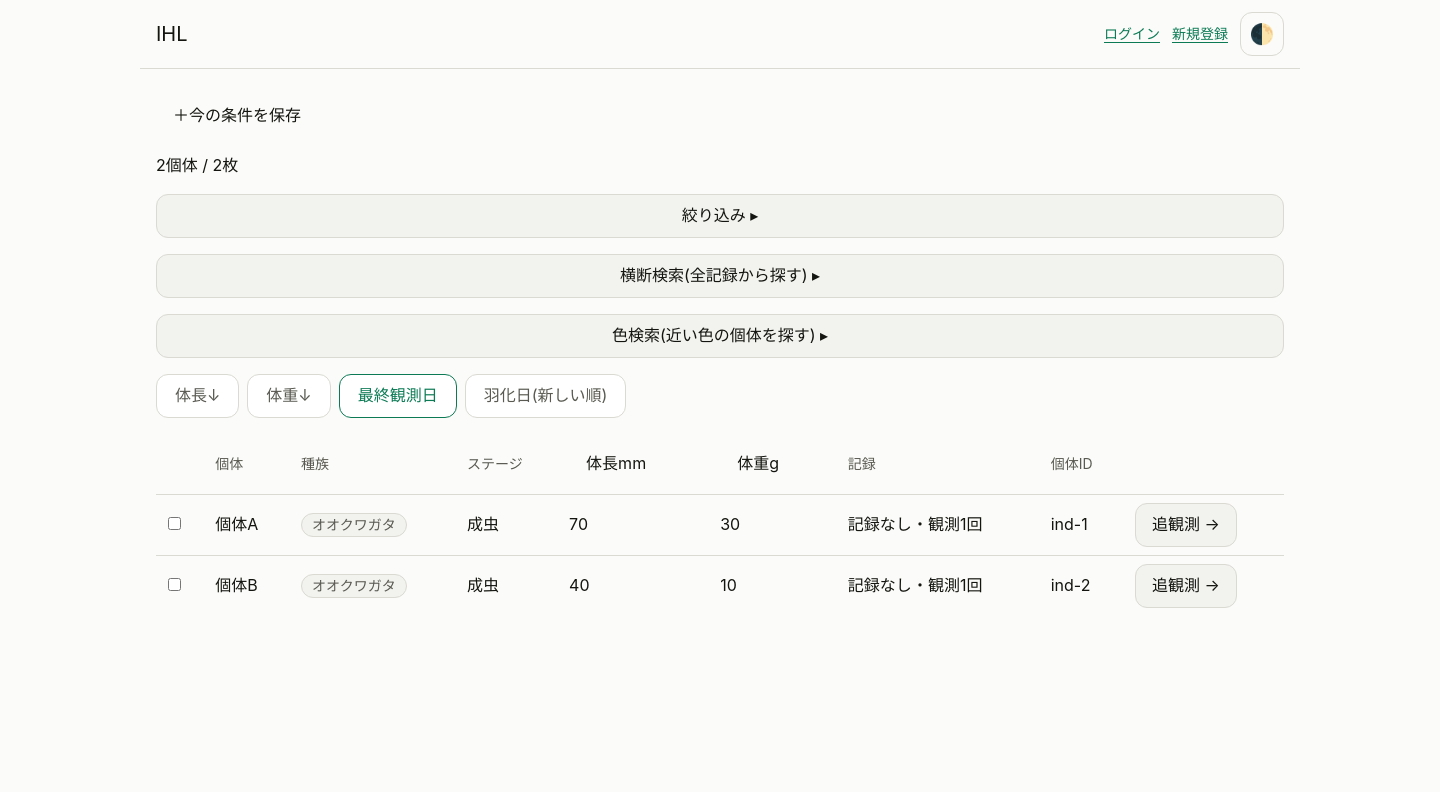
Test: T2: 横断検索UI導線(GET /api/v1/search) › 0件応答は「該当する記録がありません」を表示し、打ち切り表示は出さない
Check: the text "2個体 / 2枚" is shown, box [156,155,238,175]
Click the button "横断検索(全記録から探す) ▸" at (720, 276), box [156,254,1284,298]
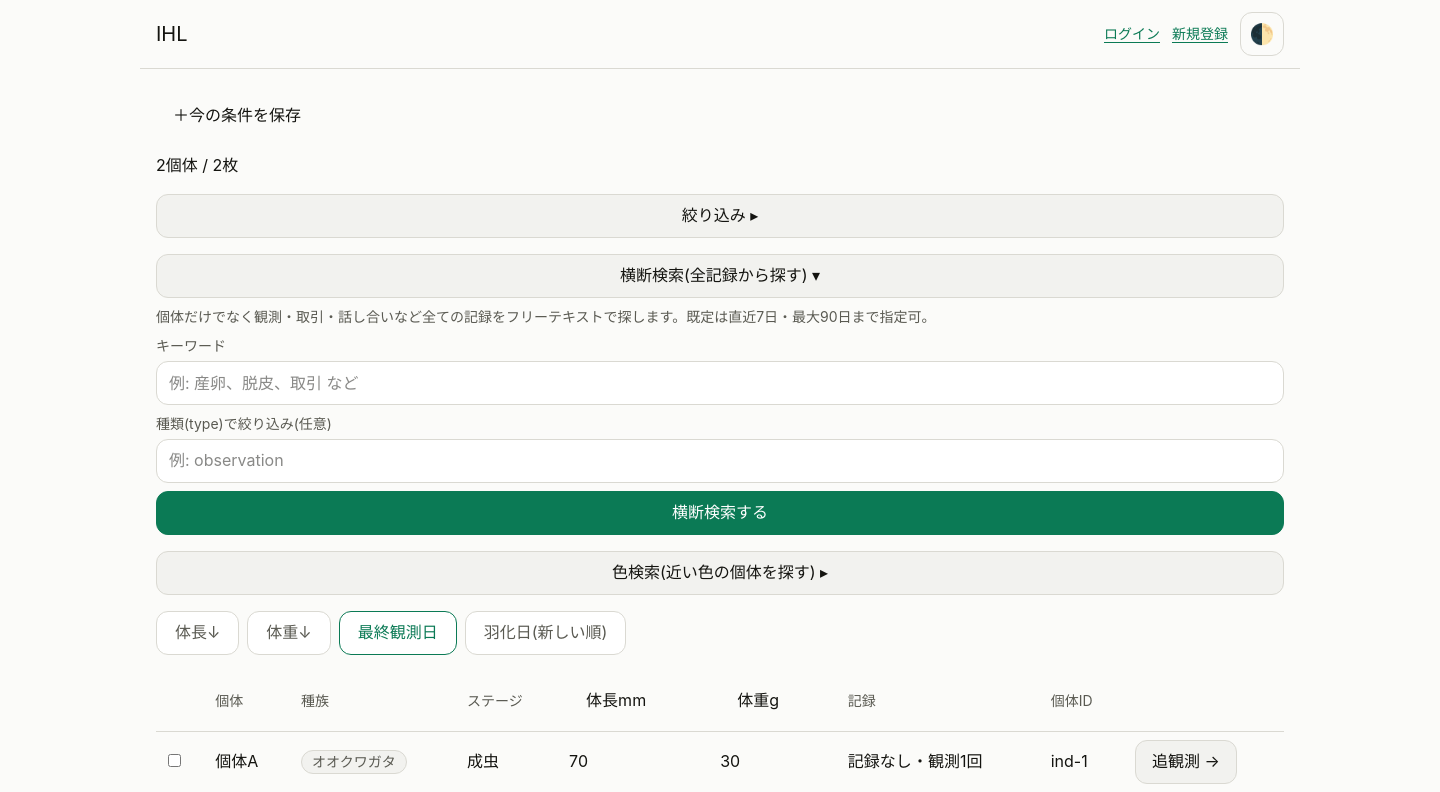
Click the button "横断検索する" at (720, 513), box [156,491,1284,535]
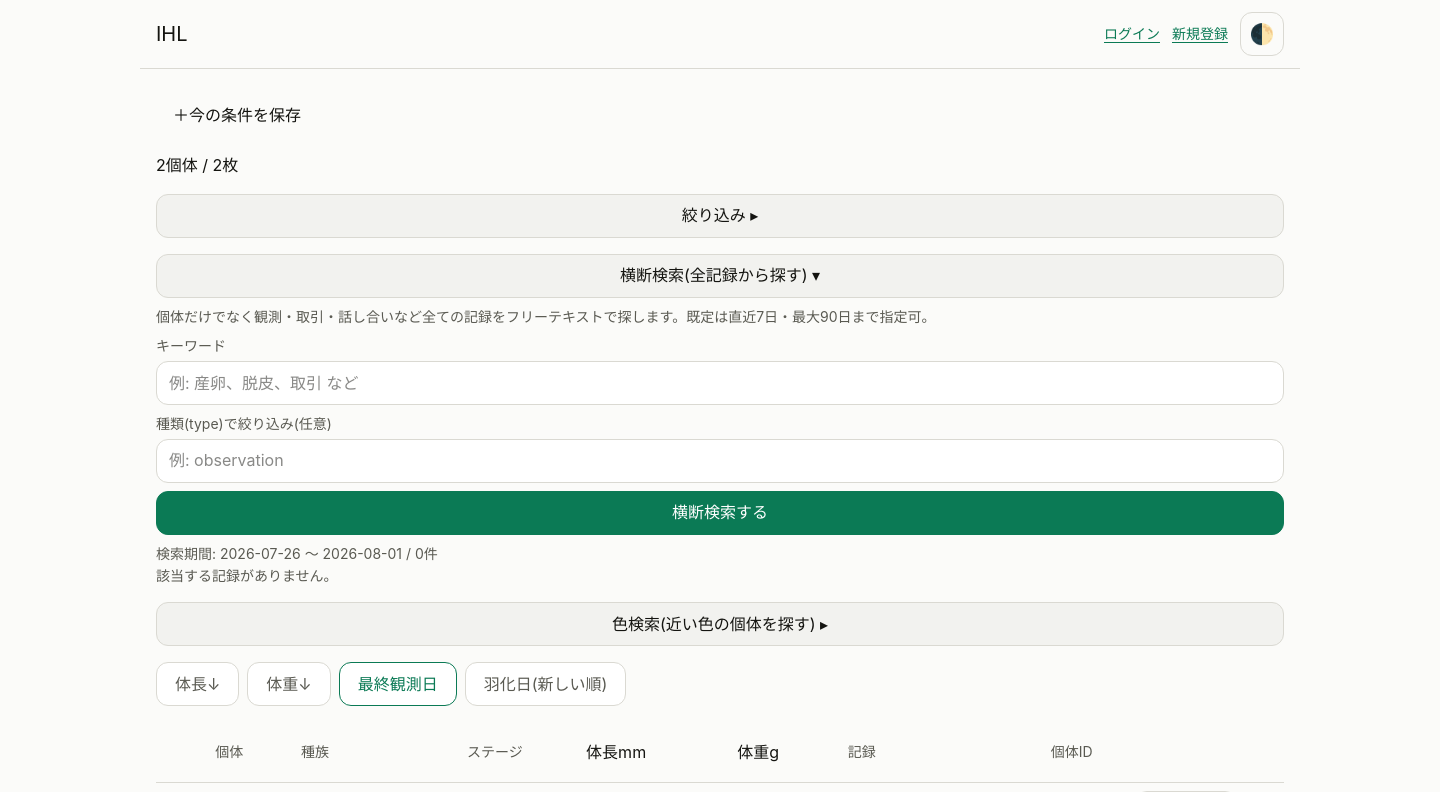
Check: the text "該当する記録がありません。" is shown, box [156,566,338,584]
